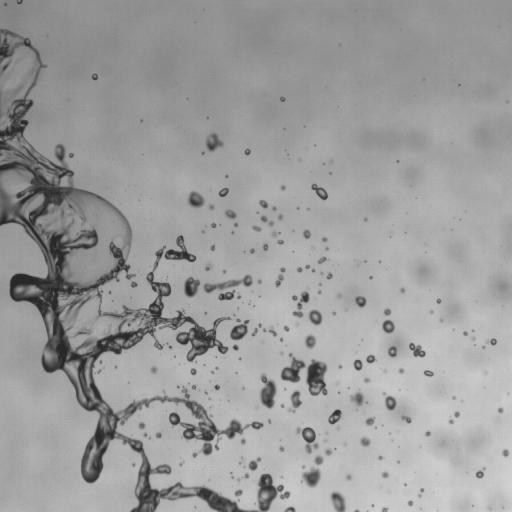droplet: (281, 352, 327, 397), (294, 426, 319, 454), (180, 276, 200, 298), (229, 318, 249, 340), (348, 388, 368, 410), (329, 489, 346, 511), (205, 132, 223, 152), (187, 190, 205, 208), (381, 391, 396, 410), (408, 342, 426, 357), (328, 409, 343, 425), (308, 309, 322, 325), (248, 456, 261, 471), (382, 319, 395, 333), (304, 334, 316, 349), (224, 209, 236, 220), (355, 296, 366, 308), (359, 436, 370, 447), (475, 467, 486, 478), (63, 156, 74, 167), (72, 177, 83, 188), (202, 192, 213, 203), (220, 196, 231, 207), (239, 220, 250, 231), (12, 222, 23, 233), (28, 240, 39, 251), (31, 245, 42, 256), (36, 267, 47, 278), (198, 273, 209, 284), (206, 273, 217, 284), (172, 282, 183, 293), (301, 301, 312, 312), (26, 302, 37, 313), (200, 319, 211, 330), (221, 320, 232, 331), (306, 323, 317, 334), (153, 325, 164, 336), (165, 327, 176, 338), (215, 330, 226, 341), (476, 332, 487, 343), (221, 335, 232, 346), (375, 349, 386, 360), (100, 350, 111, 361), (270, 372, 281, 383), (274, 378, 285, 389), (296, 378, 307, 389), (285, 380, 296, 391), (340, 389, 351, 400), (299, 390, 310, 401), (165, 401, 176, 412), (88, 410, 99, 421), (131, 410, 142, 421), (180, 410, 191, 421), (216, 419, 227, 430), (145, 423, 156, 434), (361, 425, 372, 436), (242, 427, 253, 438), (131, 429, 142, 440), (107, 438, 118, 449), (192, 438, 203, 449), (304, 459, 315, 470), (376, 460, 387, 471), (250, 469, 261, 480), (148, 476, 159, 487), (182, 477, 193, 488), (222, 488, 233, 499), (157, 497, 168, 508), (270, 497, 281, 508), (197, 498, 208, 509), (353, 358, 363, 370), (323, 447, 336, 456), (218, 187, 229, 197), (364, 416, 375, 426), (365, 354, 377, 363), (204, 261, 214, 271), (388, 346, 397, 357), (258, 200, 268, 209), (302, 229, 311, 239), (270, 230, 281, 238), (400, 415, 411, 423), (485, 338, 497, 345), (238, 456, 245, 468), (197, 187, 206, 196), (262, 207, 271, 216), (267, 237, 276, 246), (320, 262, 329, 271), (26, 267, 35, 276), (215, 274, 224, 283), (235, 283, 244, 292), (195, 286, 204, 295), (148, 290, 157, 299), (128, 301, 137, 310), (208, 345, 217, 354), (314, 353, 323, 362), (298, 368, 307, 377), (321, 372, 330, 381), (252, 393, 261, 402), (272, 393, 281, 402), (189, 416, 198, 425), (115, 424, 124, 433), (174, 424, 183, 433), (86, 427, 95, 436), (315, 446, 324, 455), (311, 447, 320, 456), (132, 452, 141, 461), (317, 463, 326, 472), (316, 477, 325, 486), (206, 481, 215, 490), (130, 498, 139, 507), (281, 498, 290, 507), (450, 457, 460, 465), (423, 370, 434, 377), (504, 404, 511, 415), (501, 448, 509, 457), (284, 505, 295, 511), (202, 505, 213, 511), (267, 505, 278, 511), (325, 505, 336, 511), (251, 225, 261, 231), (383, 308, 391, 315), (150, 366, 158, 373), (381, 471, 389, 478), (344, 473, 352, 480), (91, 73, 98, 80), (208, 203, 215, 210), (138, 422, 145, 429), (155, 431, 162, 438), (200, 143, 207, 150), (214, 145, 221, 152), (62, 154, 69, 161), (182, 193, 189, 200), (201, 202, 208, 209), (190, 205, 197, 212), (259, 207, 266, 214), (227, 217, 234, 224), (255, 219, 262, 226), (2, 222, 9, 229), (272, 223, 279, 230), (130, 238, 137, 245), (153, 243, 160, 250), (255, 244, 262, 251), (179, 257, 186, 264), (314, 263, 321, 270), (118, 269, 125, 276), (236, 273, 243, 280), (250, 275, 257, 282), (250, 281, 257, 288), (3, 283, 10, 290), (213, 288, 220, 295), (101, 291, 108, 298), (182, 294, 189, 301), (160, 295, 167, 302), (188, 295, 195, 302), (100, 305, 107, 312), (116, 306, 123, 313), (160, 310, 167, 317), (432, 312, 439, 319), (246, 325, 253, 332), (276, 328, 283, 335), (143, 332, 150, 339), (41, 335, 48, 342), (314, 336, 321, 343), (298, 337, 305, 344), (234, 338, 241, 345), (135, 341, 142, 348), (226, 347, 233, 354), (304, 359, 311, 366), (284, 360, 291, 367), (187, 361, 194, 368), (55, 368, 62, 375), (189, 374, 196, 381), (94, 380, 101, 387), (258, 381, 265, 388), (349, 387, 356, 394), (99, 390, 106, 397), (361, 393, 368, 400), (134, 394, 141, 401), (285, 399, 292, 406), (349, 400, 356, 407), (259, 403, 266, 410), (233, 432, 240, 439), (123, 443, 130, 450), (77, 448, 84, 455), (197, 451, 204, 458), (100, 454, 107, 461), (321, 454, 328, 461), (243, 457, 250, 464), (149, 461, 156, 468), (169, 462, 176, 469), (132, 466, 139, 473), (98, 470, 105, 477), (295, 473, 302, 480), (271, 479, 278, 486), (84, 481, 91, 488), (301, 481, 308, 488), (252, 483, 259, 490), (338, 488, 345, 495), (229, 494, 236, 501), (236, 501, 243, 508), (363, 377, 371, 383), (448, 416, 454, 424), (154, 506, 163, 511), (343, 506, 352, 511), (406, 506, 415, 511), (244, 148, 250, 155), (262, 243, 268, 250), (296, 266, 302, 273), (326, 272, 332, 279), (231, 344, 238, 350), (398, 367, 404, 374), (190, 368, 196, 375), (213, 384, 219, 391), (276, 239, 284, 244), (280, 184, 286, 190), (277, 214, 283, 220), (335, 292, 341, 298), (438, 317, 444, 323), (283, 325, 289, 331), (497, 407, 503, 413), (454, 411, 460, 417), (424, 430, 430, 436), (278, 445, 284, 451), (407, 500, 413, 506), (210, 244, 215, 251), (378, 455, 385, 460), (381, 506, 388, 511), (374, 506, 381, 511), (68, 153, 74, 158), (211, 222, 216, 228), (321, 237, 327, 242), (249, 248, 255, 253), (400, 287, 405, 293), (294, 322, 299, 328), (334, 380, 340, 385), (191, 384, 196, 390), (240, 438, 245, 444), (179, 460, 184, 466), (487, 505, 492, 511), (208, 507, 215, 511), (280, 96, 285, 101), (328, 159, 333, 164), (233, 222, 238, 227), (305, 264, 310, 269), (257, 279, 262, 284), (436, 298, 441, 303), (280, 403, 285, 408), (335, 425, 340, 430), (131, 462, 136, 467), (0, 24, 5, 29), (8, 26, 13, 31), (22, 33, 27, 38), (30, 40, 35, 45), (41, 59, 46, 64), (39, 67, 44, 72), (35, 79, 40, 84), (31, 86, 36, 91), (26, 94, 31, 99), (29, 105, 34, 110), (22, 129, 27, 134), (217, 135, 222, 140), (57, 139, 62, 144), (33, 144, 38, 149), (55, 160, 60, 165), (68, 165, 73, 170), (278, 180, 283, 185), (275, 184, 280, 189), (82, 185, 87, 190), (86, 186, 91, 191), (284, 186, 289, 191), (89, 187, 94, 192), (325, 188, 330, 193), (278, 189, 283, 194), (98, 191, 103, 196), (107, 197, 112, 202), (264, 197, 269, 202), (112, 201, 117, 206), (266, 204, 271, 209), (232, 207, 237, 212), (256, 213, 261, 218), (125, 215, 130, 220), (266, 216, 271, 221), (281, 216, 286, 221), (232, 217, 237, 222), (129, 223, 134, 228), (303, 224, 308, 229), (232, 226, 237, 231), (251, 229, 256, 234), (309, 229, 314, 234), (309, 233, 314, 238), (276, 234, 281, 239), (299, 234, 304, 239), (305, 237, 310, 242), (322, 241, 327, 246), (205, 244, 210, 249), (176, 246, 181, 251), (186, 248, 191, 253), (322, 251, 327, 256), (151, 254, 156, 259), (315, 254, 320, 259), (160, 255, 165, 260), (322, 260, 327, 265), (200, 264, 205, 269), (300, 264, 305, 269), (292, 265, 297, 270), (147, 266, 152, 271), (301, 267, 306, 272), (127, 268, 132, 273), (275, 269, 280, 274), (314, 269, 319, 274), (281, 271, 286, 276), (322, 271, 327, 276), (192, 274, 197, 279), (273, 275, 278, 280), (130, 276, 135, 281), (152, 276, 157, 281), (126, 279, 131, 284), (279, 280, 284, 285), (399, 282, 404, 287), (146, 283, 151, 288), (169, 283, 174, 288), (245, 285, 250, 290), (315, 285, 320, 290), (318, 285, 323, 290), (395, 289, 400, 294), (153, 291, 158, 296), (358, 291, 363, 296), (399, 292, 404, 297), (296, 294, 301, 299), (6, 295, 11, 300), (307, 295, 312, 300), (231, 296, 236, 301), (148, 298, 153, 303), (222, 298, 227, 303), (350, 298, 355, 303), (301, 301, 306, 306), (364, 301, 369, 306), (144, 303, 149, 308), (353, 303, 358, 308), (382, 304, 387, 309), (293, 306, 298, 311), (317, 307, 322, 312), (379, 307, 384, 312), (173, 311, 178, 316), (183, 311, 188, 316), (320, 313, 325, 318), (385, 314, 390, 319), (192, 315, 197, 320), (293, 315, 298, 320), (320, 318, 325, 323), (378, 319, 383, 324), (233, 320, 238, 325), (392, 320, 397, 325), (436, 321, 441, 326), (287, 323, 292, 328), (377, 323, 382, 328), (40, 324, 45, 329), (273, 326, 278, 331), (257, 327, 262, 332), (379, 328, 384, 333), (392, 328, 397, 333), (383, 331, 388, 336), (388, 331, 393, 336), (467, 331, 472, 336), (487, 334, 492, 339), (241, 335, 246, 340), (274, 335, 279, 340), (232, 339, 237, 344), (186, 341, 191, 346), (389, 341, 394, 346), (176, 342, 181, 347), (486, 342, 491, 347), (385, 343, 390, 348), (162, 344, 167, 349), (312, 344, 317, 349), (395, 349, 400, 354), (408, 349, 413, 354), (283, 351, 288, 356), (384, 352, 389, 357), (373, 353, 378, 358), (354, 354, 359, 359), (194, 355, 199, 360), (295, 355, 300, 360), (387, 355, 392, 360), (392, 355, 397, 360), (415, 355, 420, 360), (93, 359, 98, 364), (361, 359, 366, 364), (149, 361, 154, 366), (370, 361, 375, 366), (37, 362, 42, 367), (154, 362, 159, 367), (399, 363, 404, 368), (349, 364, 354, 369), (38, 365, 43, 370), (91, 367, 96, 372), (145, 367, 150, 372), (393, 367, 398, 372), (155, 369, 160, 374), (354, 369, 359, 374), (151, 372, 156, 377), (396, 372, 401, 377), (400, 372, 405, 377), (216, 380, 221, 385), (366, 381, 371, 386), (186, 384, 191, 389), (324, 384, 329, 389), (335, 385, 340, 390), (70, 387, 75, 392), (385, 391, 390, 396), (159, 392, 164, 397), (146, 393, 151, 398), (179, 393, 184, 398), (312, 394, 317, 399), (298, 395, 303, 400), (380, 395, 385, 400), (188, 396, 193, 401), (394, 397, 399, 402), (72, 398, 77, 403), (155, 399, 160, 404), (163, 400, 168, 405), (148, 401, 153, 406), (360, 402, 365, 407), (497, 402, 502, 407), (140, 403, 145, 408), (298, 403, 303, 408), (394, 403, 399, 408), (202, 404, 207, 409), (334, 404, 339, 409), (79, 406, 84, 411), (453, 406, 458, 411), (281, 407, 286, 412), (329, 407, 334, 412), (502, 407, 507, 412), (112, 408, 117, 413), (134, 408, 139, 413), (205, 409, 210, 414), (458, 409, 463, 414), (340, 410, 345, 415), (404, 411, 409, 416), (498, 412, 503, 417), (363, 414, 368, 419), (450, 414, 455, 419), (179, 417, 184, 422), (257, 417, 262, 422), (247, 418, 252, 423), (401, 419, 406, 424), (262, 420, 267, 425), (372, 420, 377, 425), (333, 421, 338, 426), (299, 424, 304, 429), (368, 424, 373, 429), (247, 425, 252, 430), (291, 425, 296, 430), (311, 425, 316, 430), (180, 426, 185, 431), (258, 426, 263, 431), (155, 427, 160, 432), (429, 431, 434, 436), (390, 432, 395, 437), (150, 433, 155, 438), (221, 433, 226, 438), (297, 433, 302, 438), (313, 437, 318, 442), (244, 439, 249, 444), (301, 439, 306, 444), (279, 441, 284, 446), (368, 441, 373, 446), (241, 443, 246, 448), (141, 444, 146, 449), (362, 445, 367, 450), (274, 447, 279, 452), (497, 448, 502, 453), (206, 453, 211, 458), (499, 454, 504, 459), (251, 455, 256, 460), (76, 460, 81, 465), (167, 461, 172, 466), (256, 461, 261, 466), (476, 465, 481, 470), (245, 467, 250, 472), (384, 467, 389, 472), (378, 468, 383, 473), (346, 469, 351, 474), (387, 470, 392, 475), (133, 471, 138, 476), (161, 472, 166, 477), (350, 472, 355, 477), (340, 473, 345, 478), (79, 477, 84, 482), (241, 477, 246, 482), (350, 477, 355, 482), (382, 477, 387, 482), (475, 477, 480, 482), (231, 478, 236, 483), (345, 479, 350, 484), (181, 481, 186, 486), (233, 485, 238, 490), (288, 493, 293, 498), (407, 495, 412, 500), (184, 496, 189, 501), (402, 500, 407, 505), (412, 500, 417, 505), (253, 504, 258, 509), (16, 0, 22, 4), (483, 370, 487, 376), (267, 418, 271, 424), (9, 0, 16, 3), (271, 206, 276, 210), (324, 246, 329, 250), (222, 269, 226, 274), (317, 282, 322, 286), (317, 289, 321, 294), (463, 331, 468, 335), (279, 337, 283, 342), (471, 336, 475, 341), (338, 364, 342, 369), (214, 366, 219, 370), (254, 405, 259, 409), (324, 431, 329, 435), (301, 464, 305, 469), (201, 151, 205, 155), (363, 217, 367, 221), (311, 268, 315, 272), (332, 311, 336, 315), (429, 310, 433, 314), (481, 345, 485, 349), (279, 351, 283, 355), (210, 370, 214, 374), (234, 371, 238, 375), (452, 395, 456, 399), (323, 438, 327, 442), (283, 386, 286, 391), (204, 389, 207, 394), (390, 437, 393, 442), (343, 441, 346, 446), (508, 449, 511, 454), (294, 508, 299, 511), (483, 508, 488, 511), (498, 508, 503, 511), (4, 2, 7, 6), (298, 158, 301, 162), (225, 174, 228, 178), (306, 207, 310, 210), (201, 230, 205, 233), (369, 275, 372, 279), (108, 290, 111, 294), (248, 300, 251, 304), (114, 365, 117, 369), (186, 382, 190, 385), (242, 386, 245, 390), (337, 390, 340, 394), (279, 475, 283, 478), (403, 483, 407, 486), (419, 507, 422, 511), (1, 0, 6, 2), (206, 116, 209, 119), (296, 206, 299, 209), (231, 231, 234, 234), (378, 260, 381, 263), (320, 272, 323, 275), (204, 311, 207, 314), (238, 357, 241, 360), (176, 385, 179, 388), (208, 397, 211, 400), (374, 426, 377, 429), (396, 460, 399, 463), (371, 504, 374, 507), (0, 0, 3, 3), (21, 0, 24, 3), (6, 3, 9, 6), (18, 3, 21, 6), (97, 74, 100, 77), (92, 79, 95, 82), (457, 80, 460, 83), (457, 85, 460, 88), (281, 93, 284, 96), (276, 97, 279, 100), (284, 99, 287, 102), (281, 101, 284, 104), (136, 118, 139, 121), (142, 119, 145, 122), (29, 141, 32, 144), (248, 146, 251, 149), (284, 150, 287, 153), (198, 151, 201, 154), (248, 153, 251, 156), (72, 154, 75, 157), (244, 154, 247, 157), (395, 156, 398, 159), (324, 160, 327, 163), (393, 160, 396, 163), (396, 162, 399, 165), (329, 168, 332, 171), (326, 169, 329, 172), (224, 171, 227, 174), (227, 173, 230, 176), (221, 174, 224, 177), (328, 174, 331, 177), (224, 177, 227, 180), (311, 180, 314, 183), (219, 186, 222, 189), (308, 186, 311, 189), (215, 190, 218, 193), (216, 194, 219, 197), (224, 194, 227, 197), (315, 194, 318, 197), (326, 196, 329, 199), (295, 203, 298, 206), (307, 204, 310, 207), (275, 205, 278, 208), (293, 207, 296, 210), (298, 207, 301, 210), (360, 217, 363, 220), (367, 217, 370, 220), (455, 217, 458, 220), (209, 220, 212, 223), (364, 220, 367, 223), (215, 223, 218, 226), (208, 225, 211, 228), (212, 227, 215, 230), (228, 229, 231, 232), (198, 231, 201, 234), (228, 232, 231, 235), (176, 233, 179, 236), (324, 234, 327, 237), (182, 236, 185, 239), (209, 242, 212, 245), (266, 242, 269, 245), (279, 243, 282, 246), (159, 245, 162, 248), (214, 245, 217, 248), (249, 245, 252, 248), (328, 247, 331, 250), (208, 249, 211, 252), (263, 250, 266, 253), (247, 251, 250, 254), (251, 252, 254, 255), (195, 255, 198, 258), (325, 255, 328, 258), (365, 257, 368, 260), (360, 258, 363, 261), (375, 258, 378, 261), (194, 259, 197, 262), (305, 261, 308, 264), (361, 261, 364, 264), (380, 261, 383, 264), (376, 262, 379, 265), (282, 264, 285, 267), (223, 266, 226, 269), (308, 267, 311, 270), (219, 268, 222, 271), (284, 268, 287, 271), (207, 269, 210, 272), (296, 271, 299, 274), (312, 271, 315, 274), (331, 272, 334, 275), (369, 272, 372, 275), (329, 277, 332, 280), (366, 277, 369, 280), (371, 277, 374, 280), (261, 279, 264, 282), (272, 282, 275, 285), (128, 285, 131, 288), (133, 286, 136, 289), (320, 289, 323, 292), (170, 290, 173, 293), (403, 290, 406, 293), (256, 292, 259, 295), (288, 295, 291, 298), (259, 296, 262, 299), (439, 296, 442, 299), (239, 297, 242, 300), (433, 300, 436, 303), (244, 301, 247, 304), (439, 301, 442, 304), (250, 302, 253, 305), (253, 306, 256, 309), (427, 307, 430, 310), (204, 308, 207, 311), (333, 308, 336, 311), (289, 311, 292, 314), (335, 312, 338, 315), (427, 312, 430, 315), (224, 314, 227, 317), (229, 314, 232, 317), (332, 314, 335, 317), (212, 317, 215, 320), (255, 324, 258, 327), (260, 324, 263, 327), (472, 326, 475, 329), (288, 327, 291, 330), (460, 332, 463, 335), (463, 335, 466, 338), (282, 337, 285, 340), (495, 337, 498, 340), (358, 340, 361, 343), (473, 340, 476, 343), (495, 342, 498, 345), (492, 344, 495, 347), (131, 345, 134, 348), (154, 347, 157, 350), (479, 347, 482, 350), (158, 349, 161, 352), (424, 352, 427, 355), (170, 355, 173, 358), (183, 356, 186, 359), (240, 358, 243, 361), (236, 359, 239, 362), (215, 363, 218, 366), (111, 364, 114, 367), (116, 364, 119, 367), (335, 364, 338, 367), (341, 364, 344, 367), (424, 367, 427, 370), (427, 367, 430, 370), (212, 368, 215, 371), (235, 368, 238, 371), (338, 368, 341, 371), (187, 370, 190, 373), (195, 370, 198, 373), (420, 370, 423, 373), (237, 371, 240, 374), (208, 372, 211, 375), (189, 373, 192, 376), (233, 373, 236, 376), (425, 375, 428, 378), (345, 383, 348, 386), (195, 385, 198, 388), (244, 385, 247, 388), (179, 386, 182, 389), (218, 387, 221, 390), (339, 389, 342, 392), (379, 389, 382, 392), (451, 392, 454, 395), (336, 393, 339, 396), (455, 395, 458, 398), (226, 396, 229, 399), (452, 399, 455, 402), (494, 408, 497, 411), (496, 411, 499, 414), (166, 413, 169, 416), (446, 417, 449, 420), (410, 418, 413, 421), (270, 419, 273, 422), (168, 422, 171, 425), (407, 422, 410, 425), (383, 423, 386, 426), (449, 423, 452, 426), (424, 428, 427, 431), (389, 429, 392, 432), (314, 431, 317, 434), (146, 433, 149, 436), (160, 434, 163, 437), (388, 434, 391, 437), (426, 435, 429, 438), (156, 437, 159, 440), (182, 437, 185, 440), (216, 443, 219, 446), (334, 444, 337, 447), (283, 447, 286, 450), (330, 447, 333, 450), (189, 451, 192, 454), (380, 453, 383, 456), (189, 454, 192, 457), (375, 454, 378, 457), (396, 457, 399, 460), (179, 458, 182, 461), (380, 458, 383, 461), (399, 460, 402, 463), (181, 463, 184, 466), (396, 463, 399, 466), (170, 468, 173, 471), (228, 468, 231, 471), (231, 472, 234, 475), (228, 473, 231, 476), (282, 473, 285, 476), (234, 475, 237, 478), (406, 482, 409, 485), (400, 483, 403, 486), (420, 484, 423, 487), (423, 488, 426, 491), (417, 490, 420, 493), (370, 500, 373, 503), (471, 501, 474, 504), (468, 503, 471, 506), (368, 504, 371, 507), (383, 504, 386, 507), (354, 506, 357, 509), (471, 506, 474, 509), (191, 507, 194, 510), (173, 354, 175, 358), (194, 505, 196, 509), (506, 100, 508, 103), (140, 119, 142, 122), (286, 153, 289, 155), (396, 160, 399, 162), (329, 172, 332, 174), (256, 211, 259, 213), (291, 229, 294, 231), (258, 295, 261, 297), (253, 304, 255, 307), (233, 313, 235, 316), (452, 328, 454, 331), (472, 329, 474, 332), (361, 338, 363, 341), (214, 355, 217, 357), (203, 364, 205, 367), (347, 386, 349, 389), (398, 388, 400, 391), (507, 392, 509, 395), (460, 400, 463, 402), (388, 432, 391, 434), (419, 445, 421, 448), (509, 391, 511, 394), (386, 509, 389, 511), (490, 509, 493, 511), (186, 97, 188, 99), (314, 144, 316, 146), (459, 218, 461, 220), (219, 224, 221, 226), (389, 235, 391, 237), (243, 250, 245, 252), (292, 250, 294, 252), (364, 260, 366, 262), (251, 290, 253, 292), (241, 301, 243, 303), (285, 344, 287, 346), (227, 400, 229, 402), (381, 424, 383, 426), (208, 479, 210, 481), (502, 506, 504, 508), (304, 125, 305, 127), (209, 380, 210, 382), (280, 439, 281, 441), (472, 505, 474, 506), (405, 232, 406, 233)
ligament: (202, 274, 253, 301), (300, 454, 323, 487), (258, 372, 277, 409), (286, 389, 302, 413), (311, 183, 327, 201), (275, 266, 285, 287), (260, 214, 274, 227), (236, 472, 249, 484), (251, 323, 262, 336), (317, 256, 330, 264), (143, 432, 152, 440), (418, 488, 424, 497), (229, 471, 234, 479), (380, 368, 387, 373), (208, 405, 212, 410), (353, 509, 360, 511), (236, 307, 239, 311), (366, 510, 369, 511), (127, 382, 129, 383)
